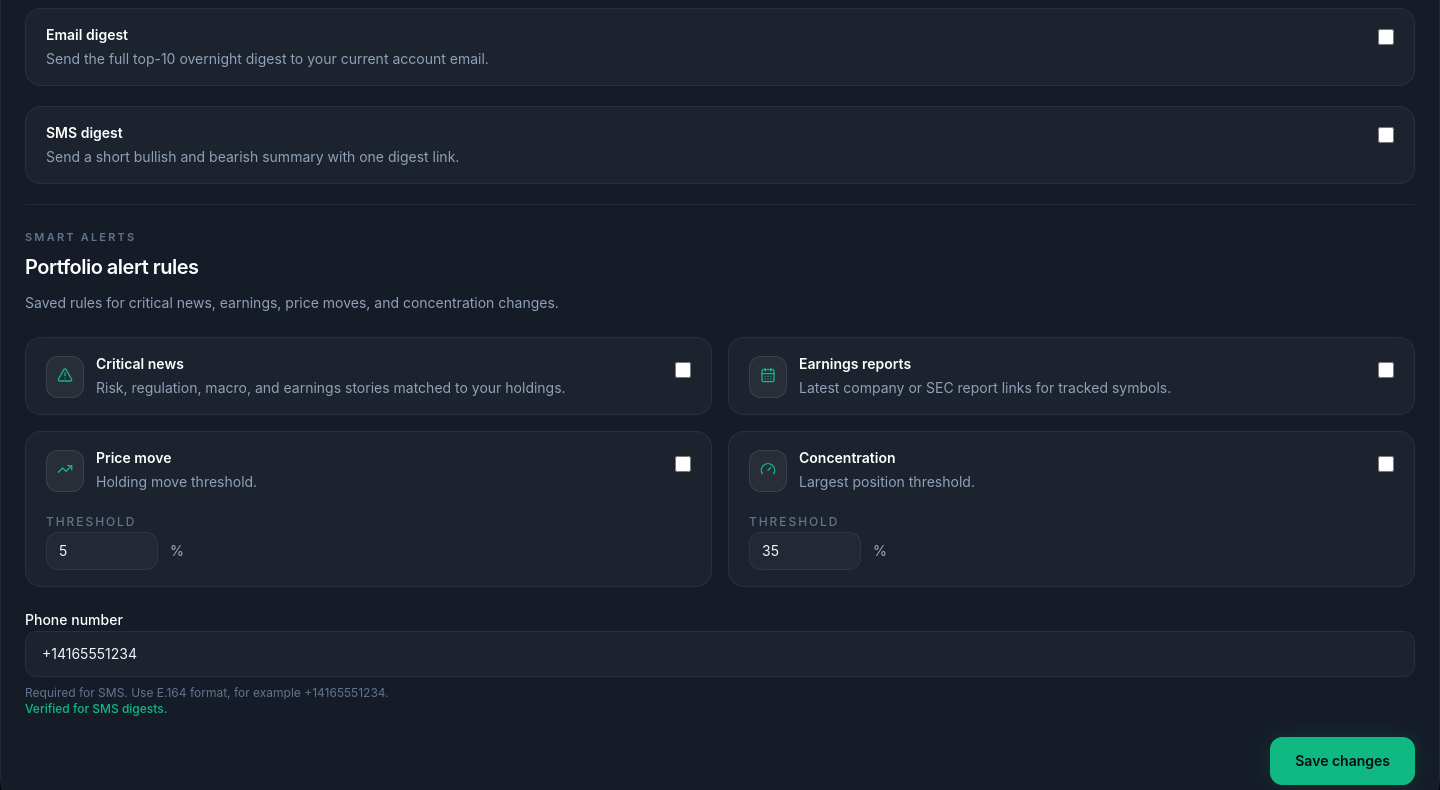
it: NotificationSettingsPanel phone verification › treats a changed number as unverified again
(page scrolled)
Expected: the text "Verified for SMS digests." is shown, [25,701,167,716]
Type "+14165550000" into the field labelled "Phone number". click: [720, 654]
box: [25,631,1415,677]
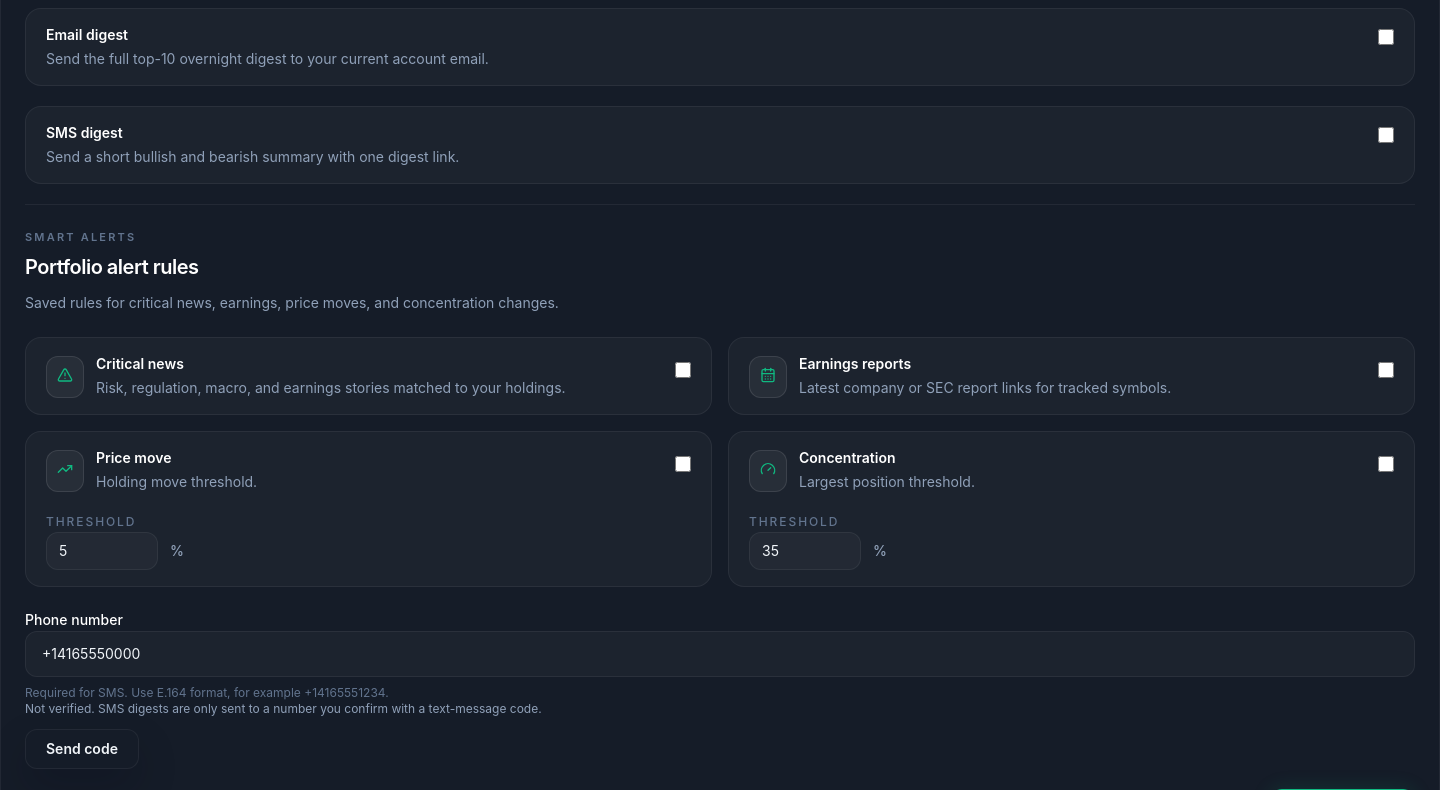
Expected: the text "Verified for SMS digests." is gone
Expected: the button "Send code" is shown, [25,729,139,769]
